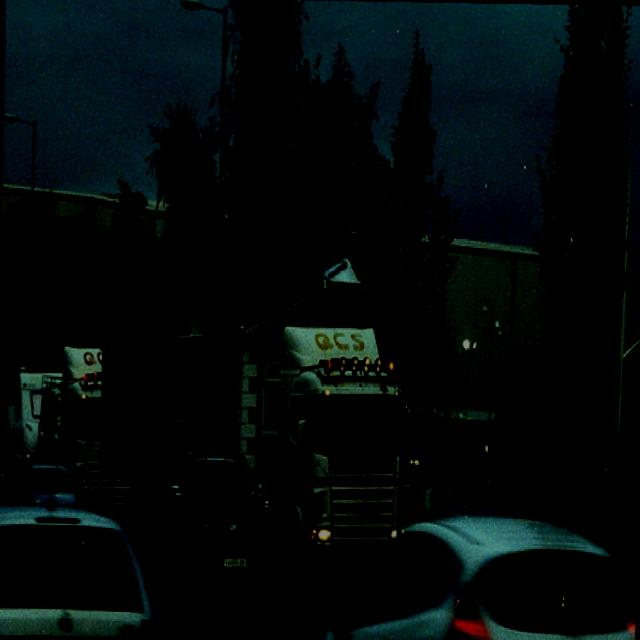Vehicle: (306, 503, 636, 640), (253, 324, 407, 581), (0, 504, 166, 637), (132, 444, 274, 594), (34, 346, 139, 512), (540, 445, 601, 535), (9, 462, 90, 508), (606, 489, 638, 526), (404, 486, 424, 518), (462, 476, 491, 494), (438, 478, 452, 487)
